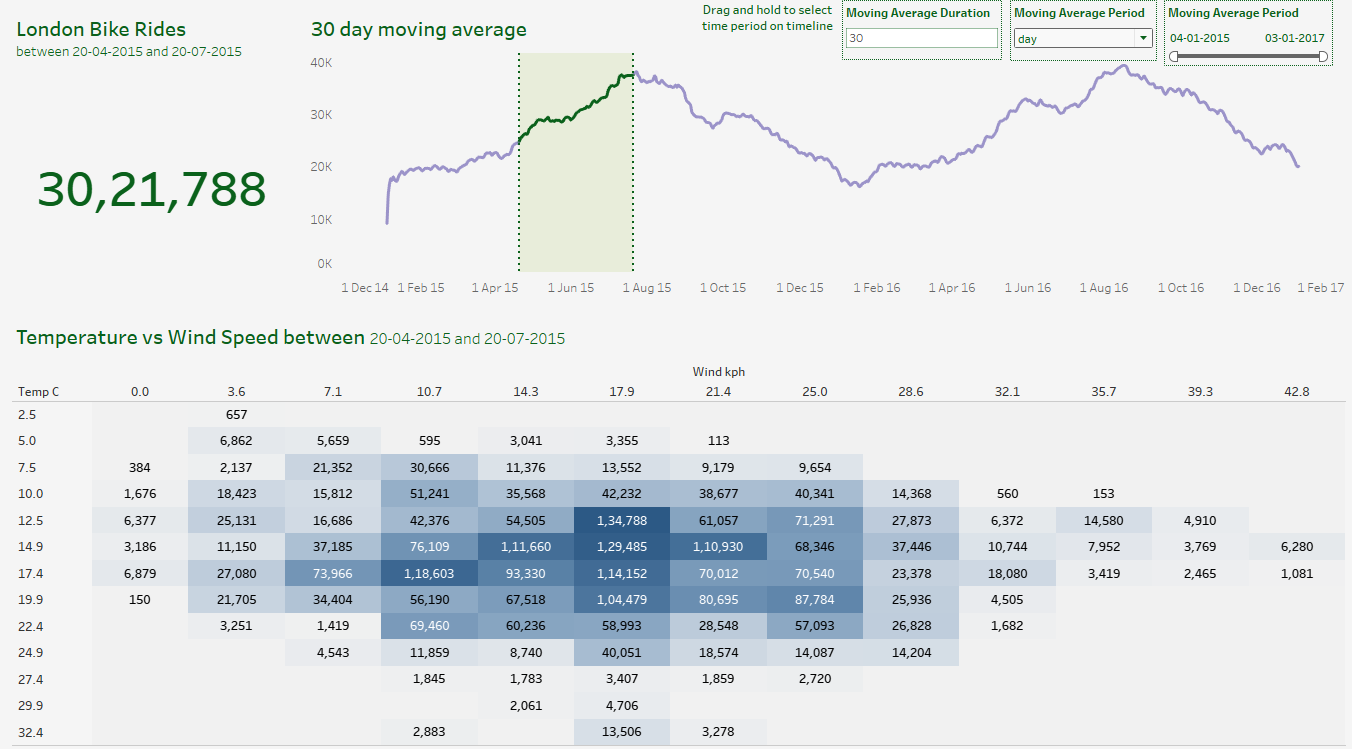

The dashboard page shown, as its layout file describes it:
{"tool":"tableau","page":{"name":"Dashboard 1","canvas":[1366,768],"ordinal":0},"visuals":[{"type":"parameter","param":"[Parameters].[Parameter 2]","box":[846,6,160,60]},{"type":"parameter","param":"[Parameters].[Parameter 1]","box":[1014,6,147,61]},{"type":"filter","title":"Moving Average","param":"[federated.19tereq18jsc2m18nlavz0n1xesg].[none:Calculation_298644965833015296:qk","box":[1168,6,169,66]},{"type":"text","box":[703,7,137,34]},{"type":"worksheet","title":"Total Rides","mark":"Automatic","box":[8,8,295,308]},{"type":"worksheet","title":"Moving Average","mark":"Automatic","rows":["Calculation1"],"cols":["Calculation_298644965833015296"],"box":[303,8,1055,308]},{"type":"worksheet","title":"Heatmap","mark":"Square","rows":["temp real C (bin)"],"cols":["Wind Speed Kph (bin)"],"box":[8,316,1350,444]}]}

Visuals, with their boxes in screenshot pixels (x1, y1, x2, y2), scaled from the page's 1366x768 canvas onto the 1352x749 screenshot:
parameter: region(837, 6, 996, 64)
parameter: region(1004, 6, 1149, 65)
"Moving Average" filter: region(1156, 6, 1323, 70)
text: region(696, 7, 831, 40)
"Total Rides" worksheet: region(8, 8, 300, 308)
"Moving Average" worksheet: region(300, 8, 1344, 308)
"Heatmap" worksheet (Square marks): region(8, 308, 1344, 741)
